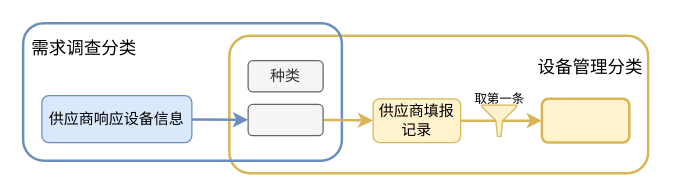
This 694x195 diagram has some shape labels left out. The box of each missing label's shape, as (x1, y1, x2, y2) in pixels:
匹配后的设备: (540, 97, 630, 143)
设备: (247, 103, 323, 136)
